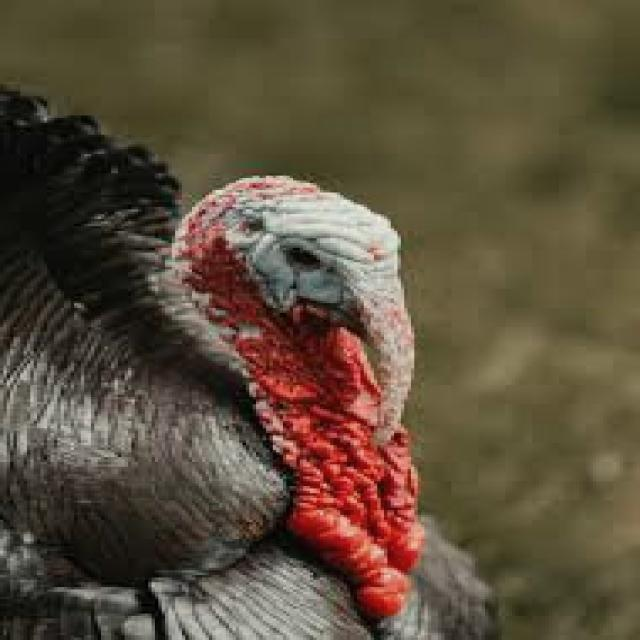turkey: (3, 87, 488, 638)
